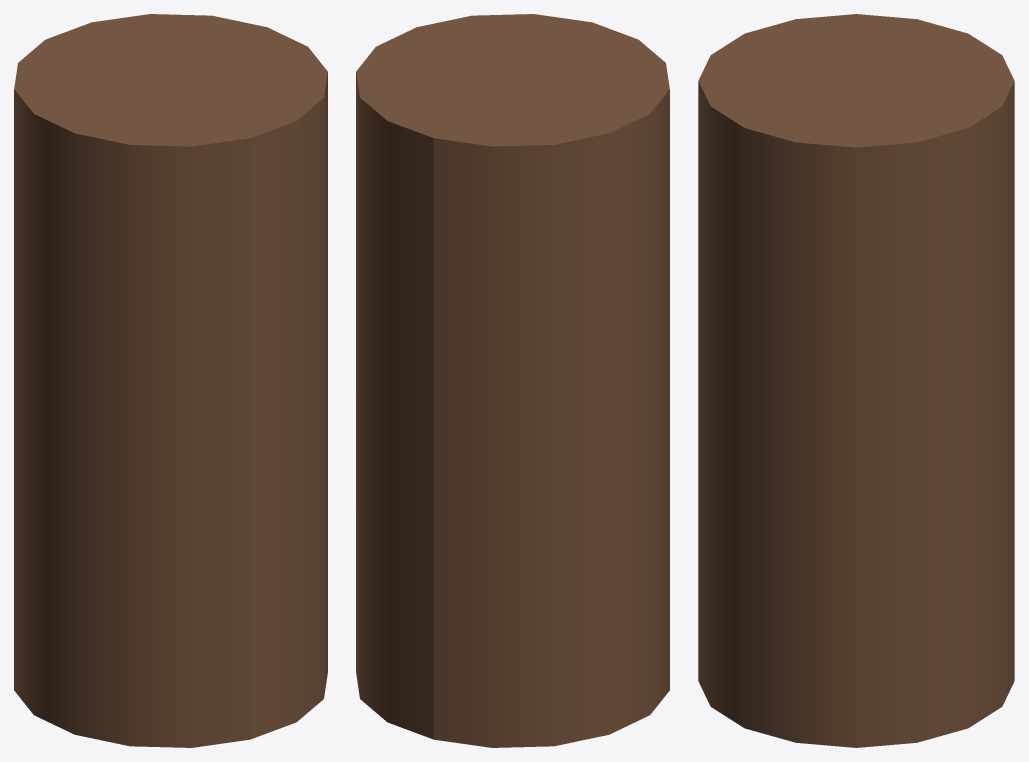
Rendered from Wood.fbx.
The picture shows the model from 3 angles, left to right: view 1: azimuth 30°, elevation 25°; view 2: azimuth 150°, elevation 25°; view 3: azimuth 270°, elevation 25°; orthographic projection.
Parts seen in each view (by area): view 1: Parte_A, Parte_B; view 2: Parte_A, Parte_B; view 3: Parte_B, Parte_A.
Boxes of the visible parts, left/top/right/bottom form: Parte_A: left=14, top=22, right=250, bottom=747; Parte_B: left=92, top=14, right=327, bottom=739; Parte_A: left=433, top=22, right=669, bottom=747; Parte_B: left=356, top=14, right=591, bottom=739; Parte_B: left=698, top=80, right=1014, bottom=747; Parte_A: left=698, top=14, right=1014, bottom=80.
Size of the model in its own units: 218 by 456 by 218.
